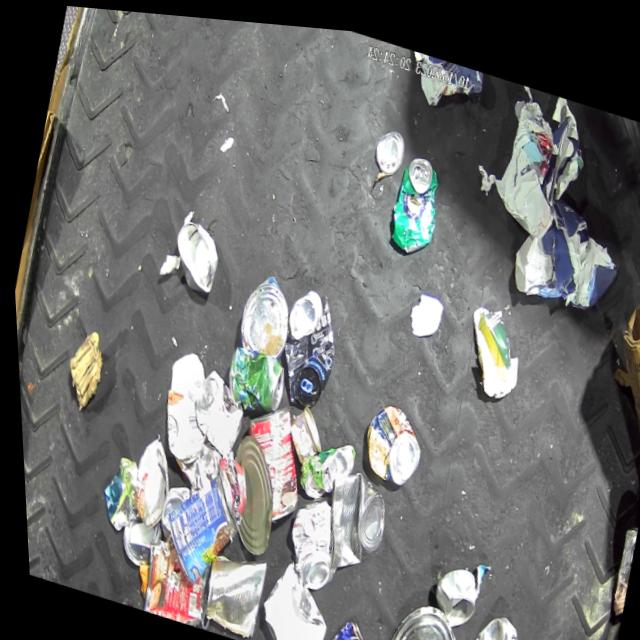can: (146, 456, 246, 594), (221, 389, 313, 524), (263, 275, 345, 408), (306, 456, 391, 576), (208, 426, 284, 554), (271, 484, 344, 589), (128, 533, 210, 626), (188, 538, 264, 637), (380, 140, 447, 251), (350, 390, 425, 483), (179, 359, 249, 457), (228, 261, 295, 356), (119, 429, 175, 531), (215, 337, 286, 414), (368, 582, 460, 640), (161, 211, 223, 293), (289, 424, 354, 502), (419, 552, 477, 626), (599, 508, 636, 606), (276, 396, 325, 463), (109, 507, 159, 569), (451, 597, 521, 640), (148, 475, 187, 542), (302, 600, 367, 640), (367, 116, 407, 170)
